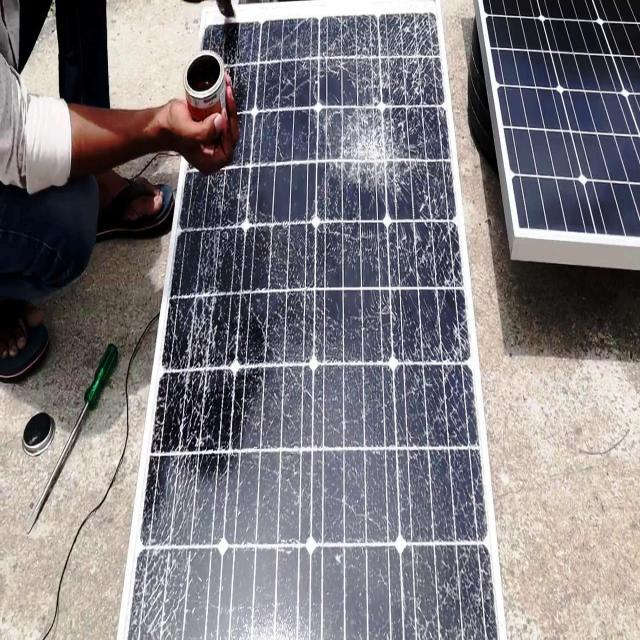faulty: (127, 10, 501, 640)
no faulty: (478, 0, 640, 251)
